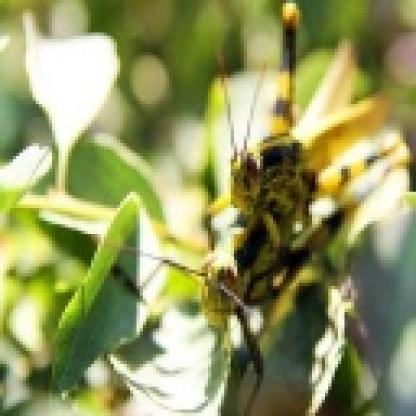grasshopper: (221, 6, 388, 215), (178, 192, 405, 344)
